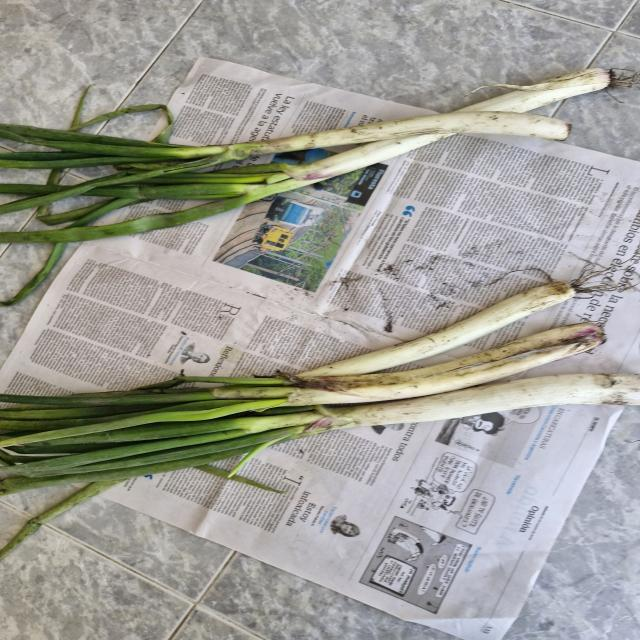green_onion: (0, 368, 640, 508), (0, 107, 576, 203)
